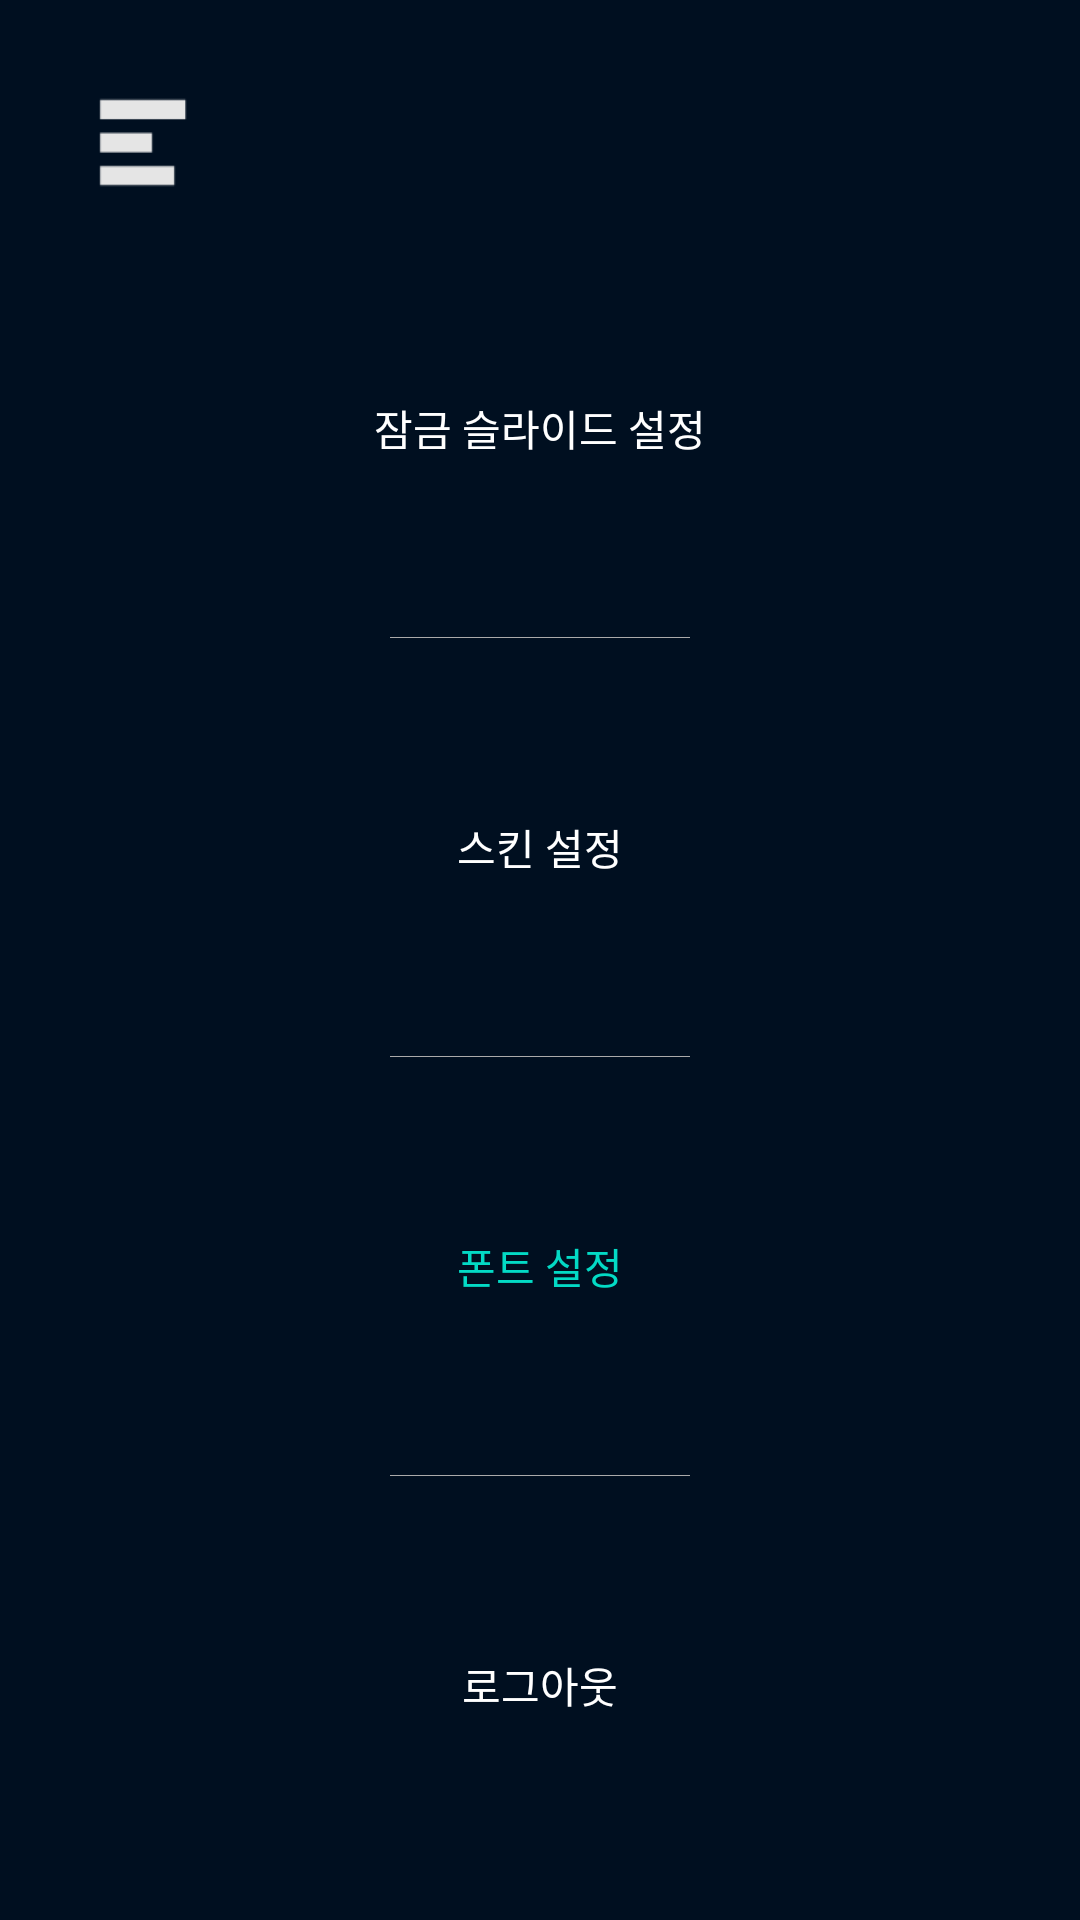

Named icons in this screenshot (1080px x 1920px) and their bounding boxes, bbox=[x1, y1, x2, y2]:
upper menu: bbox=[99, 99, 186, 186]
